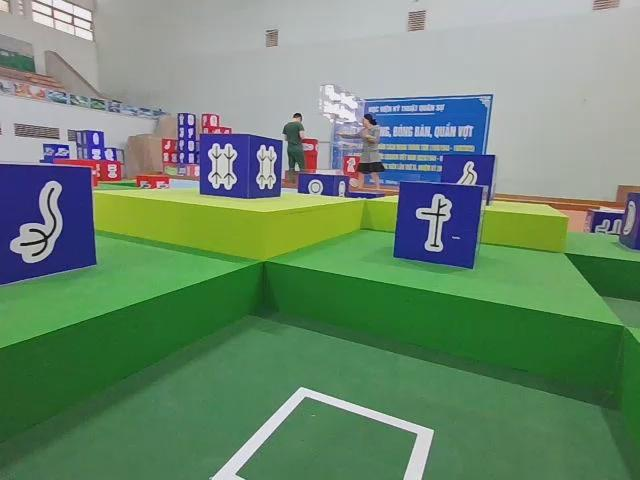R2 Real Blue: (1, 162, 97, 289), (393, 181, 485, 271), (200, 133, 282, 200), (440, 152, 497, 205), (297, 172, 348, 198)
